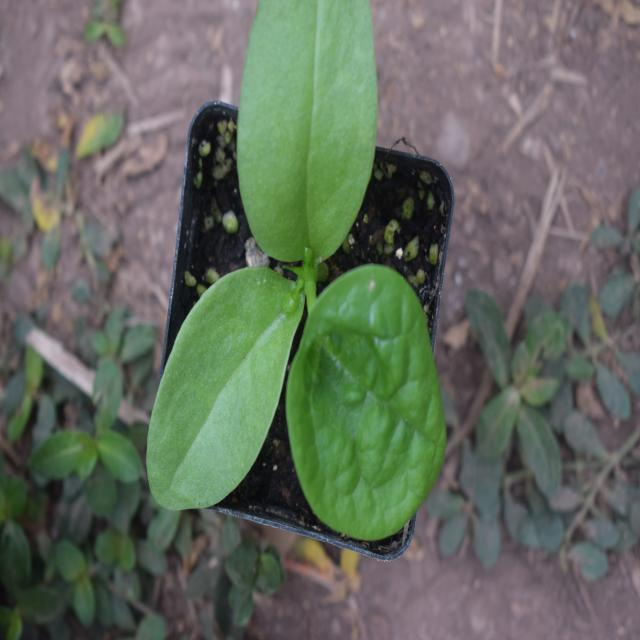Ceylon spinach: (163, 0, 454, 555)
